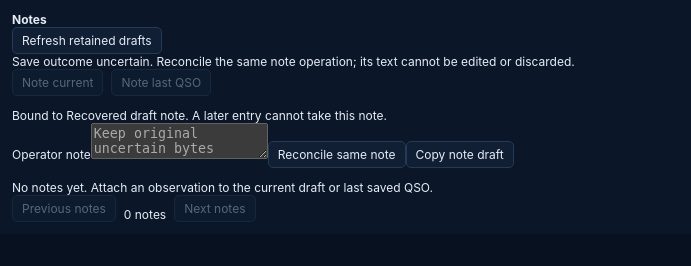
it: keeps an uncertain save read-only if its retained journal changes or cannot be read
The width and height of the screenshot is (691, 266).
Click the button "Reconcile same note" at (337, 154), box [268,141,406,168]
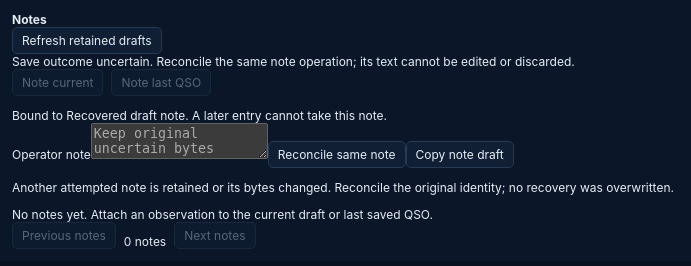
Expected: the text box labelled "Operator note" is disabled, [91,123,268,159]
Expected: the text "its bytes changed" is shown, [12,180,674,195]
